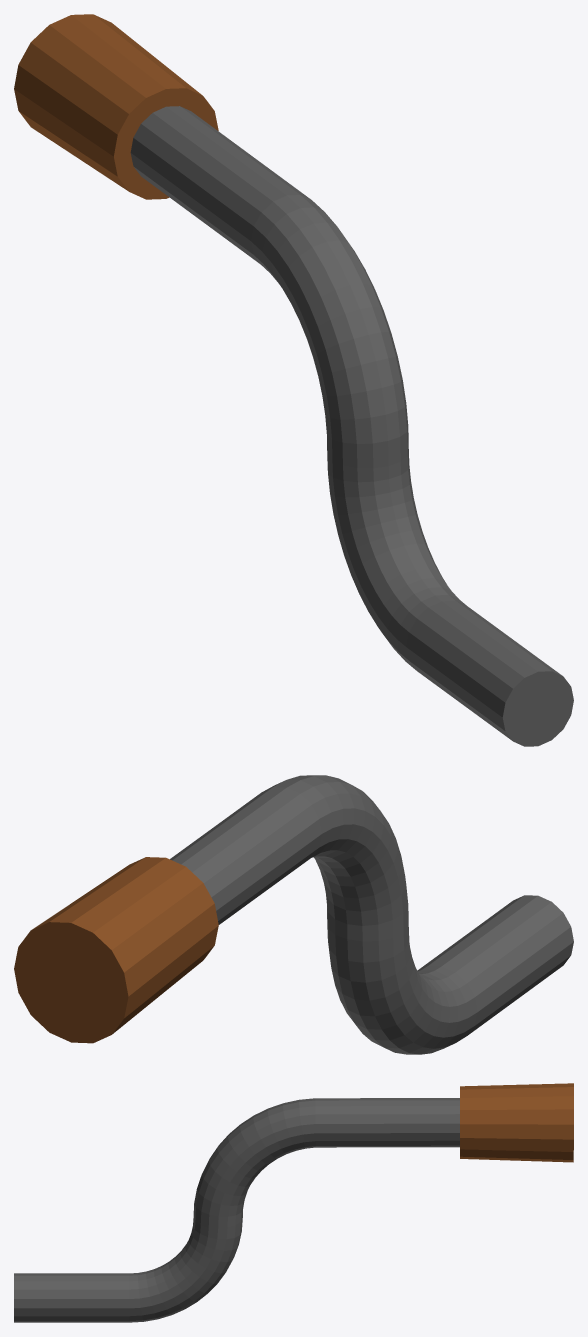
File: Lever.fbx
The picture shows the model from 3 angles, top to bottom: view 1: azimuth 30°, elevation 25°; view 2: azimuth 150°, elevation 25°; view 3: azimuth 270°, elevation 25°; orthographic projection. The views are drawn at different scales.
Parts seen in each view (by area): view 1: Cylinder.003; view 2: Cylinder.003; view 3: Cylinder.003.
Part boxes in pixels (bbox=[...]): Cylinder.003: bbox=[14, 14, 573, 746]; Cylinder.003: bbox=[14, 775, 573, 1054]; Cylinder.003: bbox=[14, 1083, 573, 1322].
Size of the model in its own units: 21.1 by 68.54 by 149.
